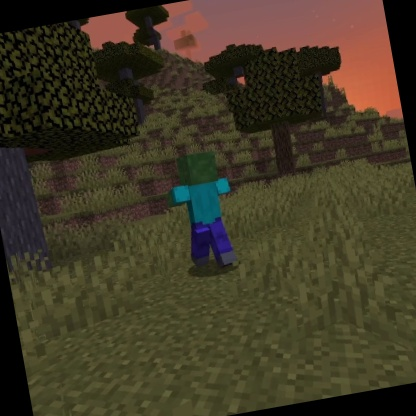zombie: (154, 146, 249, 279)
